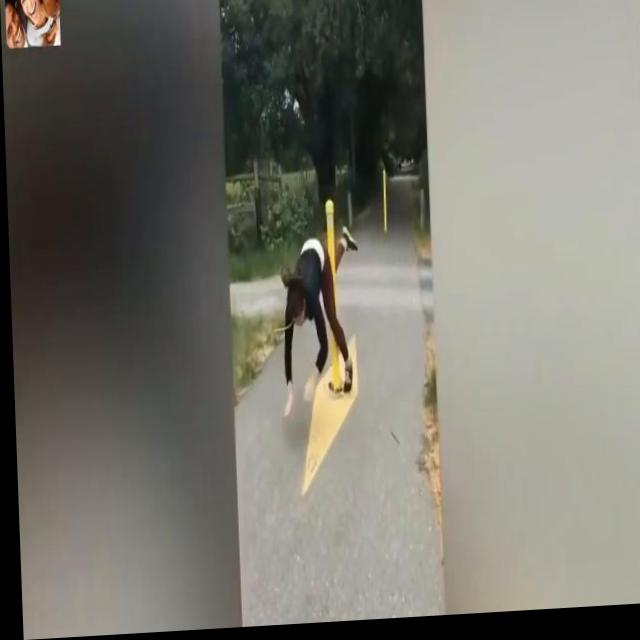fall: (274, 228, 359, 417)
